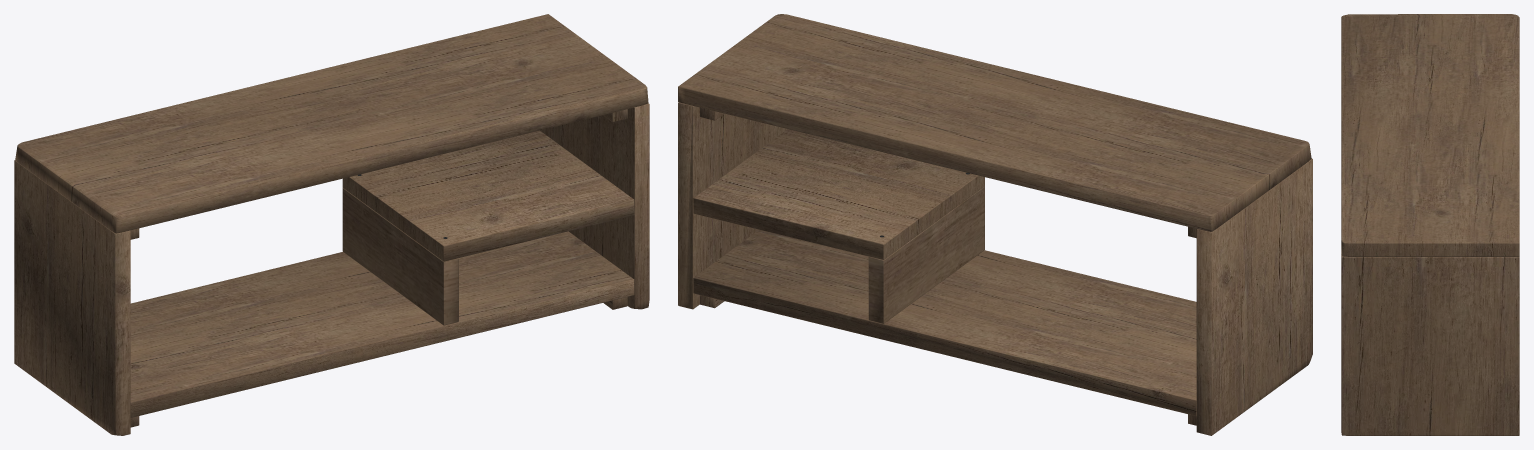
File: tv_unit_reclaimed_low_wooden_cabinet_juan_carlos.glb
The picture shows the model from 3 angles, left to right: view 1: azimuth 30°, elevation 25°; view 2: azimuth 150°, elevation 25°; view 3: azimuth 270°, elevation 25°; orthographic projection. The views are drawn at different scales.
Parts seen in each view (by area): view 1: Mobile_basso_tv_in_legno_di_recupero_0; view 2: Mobile_basso_tv_in_legno_di_recupero_0; view 3: Mobile_basso_tv_in_legno_di_recupero_0.
Part boxes in pixels (x1,y1,x2,y2): Mobile_basso_tv_in_legno_di_recupero_0: (14, 14, 649, 435); Mobile_basso_tv_in_legno_di_recupero_0: (678, 14, 1312, 435); Mobile_basso_tv_in_legno_di_recupero_0: (1341, 14, 1519, 435).
Size of the model in its own units: 1.4 by 0.55 by 0.4599.
Materials: 2 (1 with a texture image).
